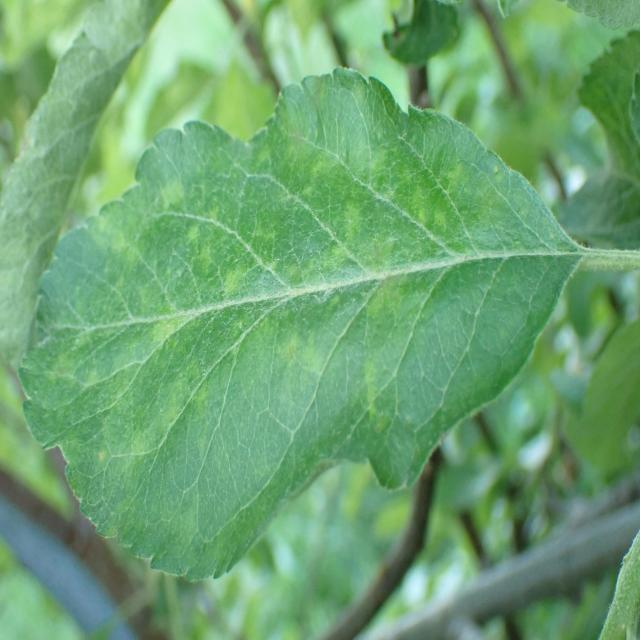scab: (39, 123, 535, 538)
